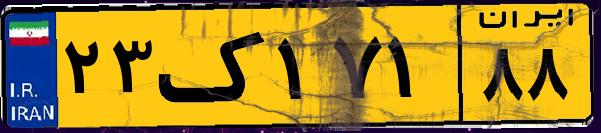1: (270, 28, 330, 110), (385, 28, 445, 110)
2: (57, 26, 110, 100)
3: (110, 28, 158, 98)
7: (330, 28, 385, 110)
8: (475, 38, 525, 113), (525, 38, 570, 115)
ک: (158, 12, 270, 120)
